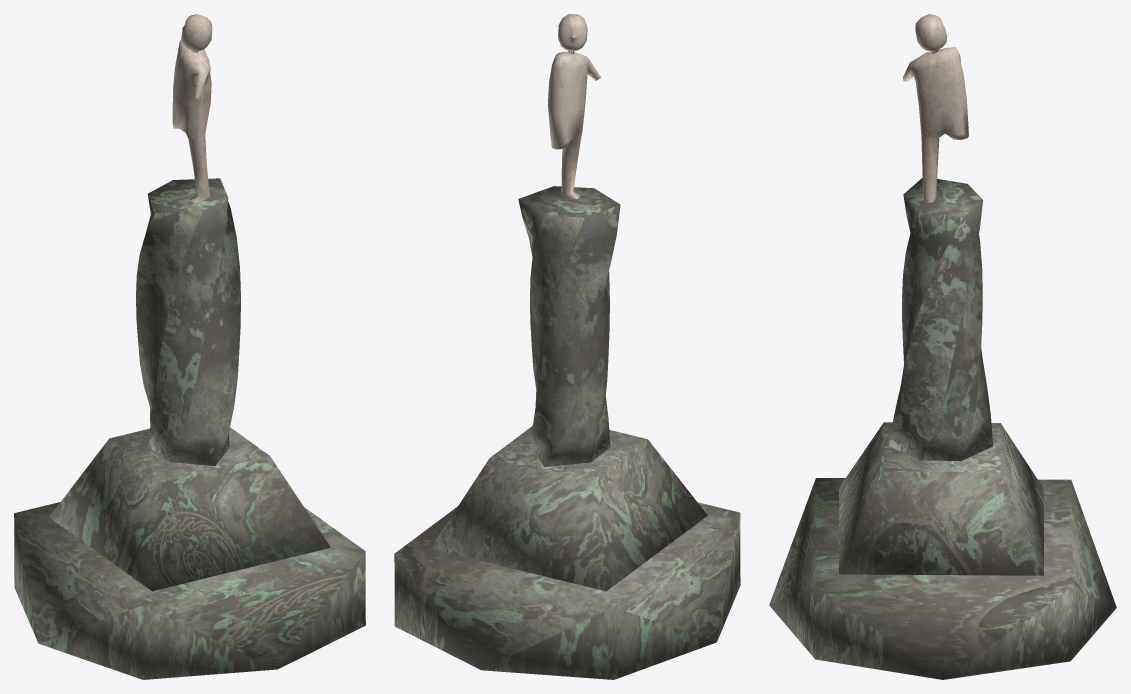
The model's file is tower-colon2.fbx.
The picture shows the model from 3 angles, left to right: view 1: azimuth 30°, elevation 25°; view 2: azimuth 150°, elevation 25°; view 3: azimuth 270°, elevation 25°; orthographic projection.
Visible parts, largest first — view 1: tower-colon; view 2: tower-colon; view 3: tower-colon.
Part boxes in pixels (left/top/right/bottom): tower-colon: left=14, top=14, right=365, bottom=679; tower-colon: left=394, top=14, right=740, bottom=679; tower-colon: left=769, top=14, right=1116, bottom=679.
Size of the model in its own units: 513 by 513 by 965.
